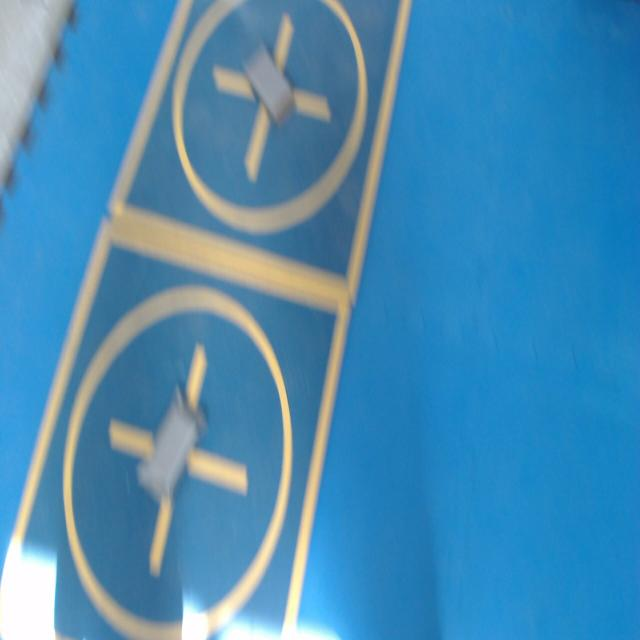direita: (138, 387, 206, 500)
esquerda: (245, 46, 294, 123)
